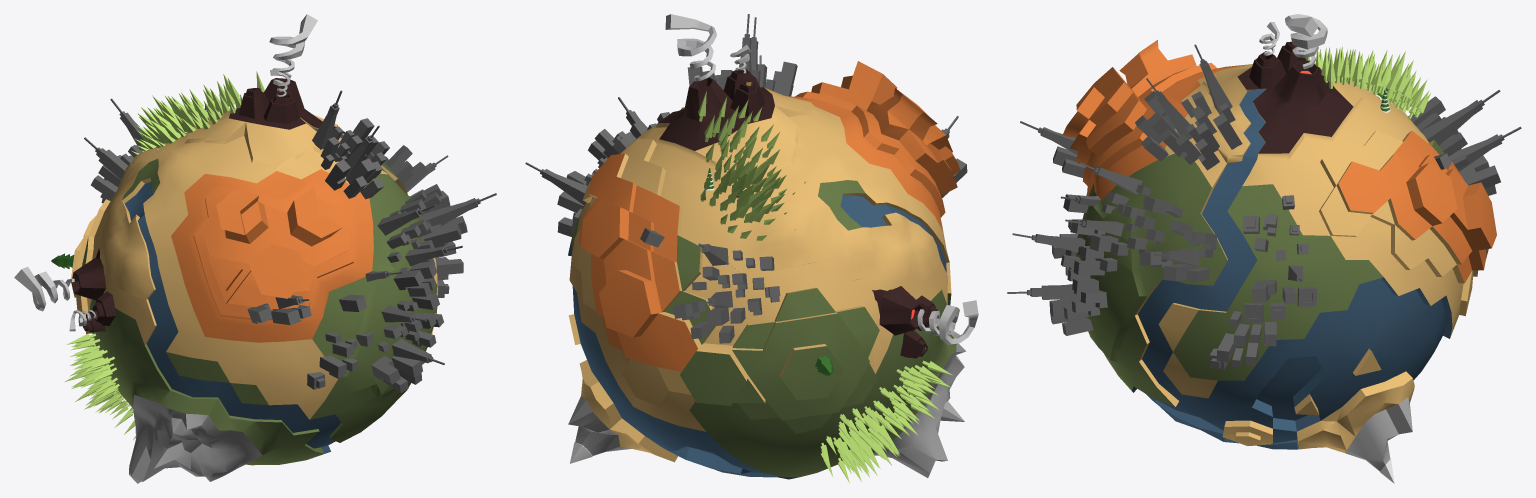
3 views of the same model, side by side, from view 1: azimuth 30°, elevation 25°; view 2: azimuth 150°, elevation 25°; view 3: azimuth 270°, elevation 25° (orthographic). The views are drawn at different scales.
Parts seen in each view (by area): view 1: Ground, Rocky Mountains, Grass, Mountains, Water, City, City 4, City 3, Forest 1, City 2, City 1, Forest (+4 smaller); view 2: Ground, Grass, Rocky Mountains, City, Water, Forest 1, Forest, Mountains, Volcano, Volcano 1, City 4, Smoke (+2 smaller); view 3: Ground, Water, Grass, Rocky Mountains, City, Volcano, City 4, City 2, City 3, Forest 1, Mountains, City 1 (+1 smaller).
Boxes of the visible parts, box(x1,y1,x2,y2) form: Ground: box(71, 110, 438, 419); Rocky Mountains: box(171, 169, 373, 342); Grass: box(81, 159, 437, 465); Mountains: box(129, 395, 262, 483); Water: box(125, 128, 401, 453); City: box(84, 98, 496, 297); City 4: box(312, 90, 389, 199); City 3: box(371, 293, 444, 392); Forest 1: box(130, 71, 264, 164); City 2: box(377, 199, 462, 296); City 1: box(247, 270, 403, 389); Forest: box(65, 333, 135, 439); Ground: box(568, 82, 951, 462); Grass: box(571, 180, 956, 477); Rocky Mountains: box(578, 61, 960, 371); City: box(525, 97, 780, 343); Water: box(568, 195, 946, 479); Forest 1: box(698, 91, 806, 240); Forest: box(820, 360, 952, 483); Mountains: box(568, 343, 965, 477); Volcano: box(658, 69, 774, 150); Volcano 1: box(872, 286, 937, 358); City 4: box(687, 14, 797, 96); Smoke: box(665, 14, 750, 81); Ground: box(1135, 64, 1488, 453); Water: box(1132, 89, 1452, 449); Grass: box(1076, 140, 1444, 406); Rocky Mountains: box(1063, 40, 1496, 282); City: box(1140, 90, 1521, 369); Volcano: box(1237, 41, 1353, 153); City 4: box(1135, 44, 1242, 170); City 2: box(1065, 162, 1171, 271); City 3: box(1007, 233, 1107, 335); Forest 1: box(1305, 47, 1430, 119); Mountains: box(1345, 397, 1412, 471); City 1: box(1020, 121, 1451, 269).
Bounding box in the file's own units: 0.2018 × 0.1857 × 0.192.
